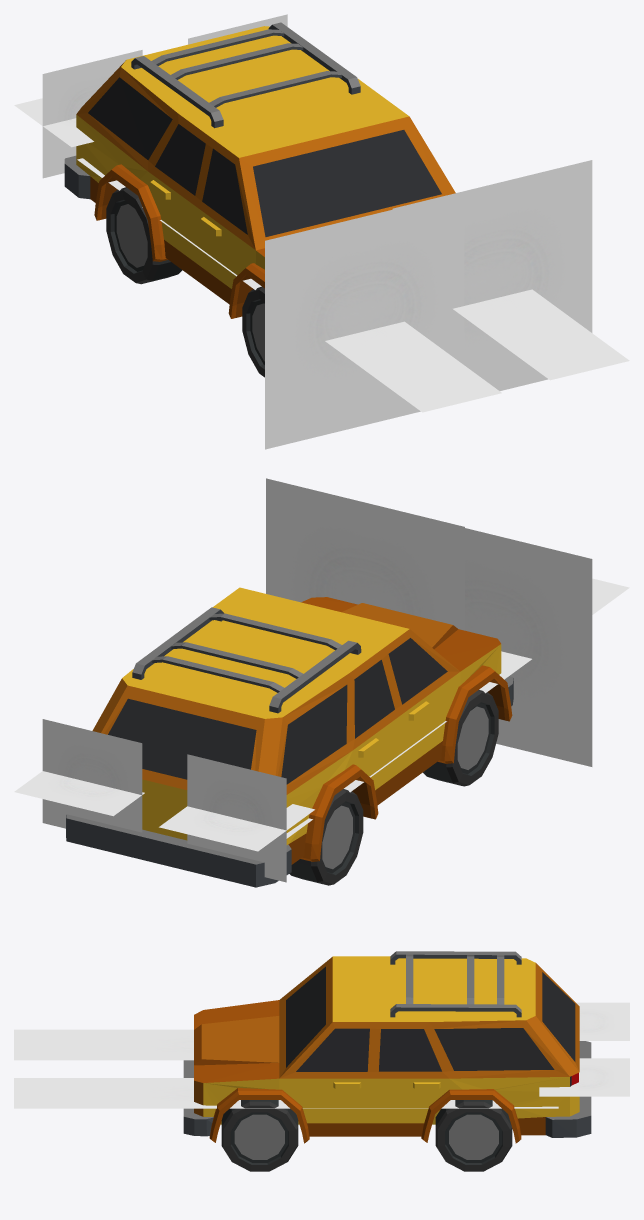
File: SnowWagonSuburbs3.fbx
The picture shows the model from 3 angles, top to bottom: view 1: azimuth 30°, elevation 25°; view 2: azimuth 150°, elevation 25°; view 3: azimuth 270°, elevation 25°; orthographic projection. The views are drawn at different scales.
Visible parts, largest first — view 1: StopLightBillboard (×7), BodyMesh, Wheel (×2); view 2: BodyMesh, StopLightBillboard (×7), Wheel (×2); view 3: BodyMesh, StopLightBillboard (×4), Wheel (×2).
Part boxes in pixels (box(x1,y1,x2,y2)): StopLightBillboard (×7): box(14, 14, 629, 449); BodyMesh: box(64, 22, 455, 318); Wheel (×2): box(106, 187, 264, 377); BodyMesh: box(66, 587, 513, 887); StopLightBillboard (×7): box(14, 478, 629, 882); Wheel (×2): box(289, 690, 498, 885); BodyMesh: box(183, 951, 591, 1143); StopLightBillboard (×4): box(14, 1002, 629, 1108); Wheel (×2): box(221, 1100, 512, 1171).
Bounding box in the file's own units: 1.64 × 1.01 × 3.39.
3 materials, 3 textured.
